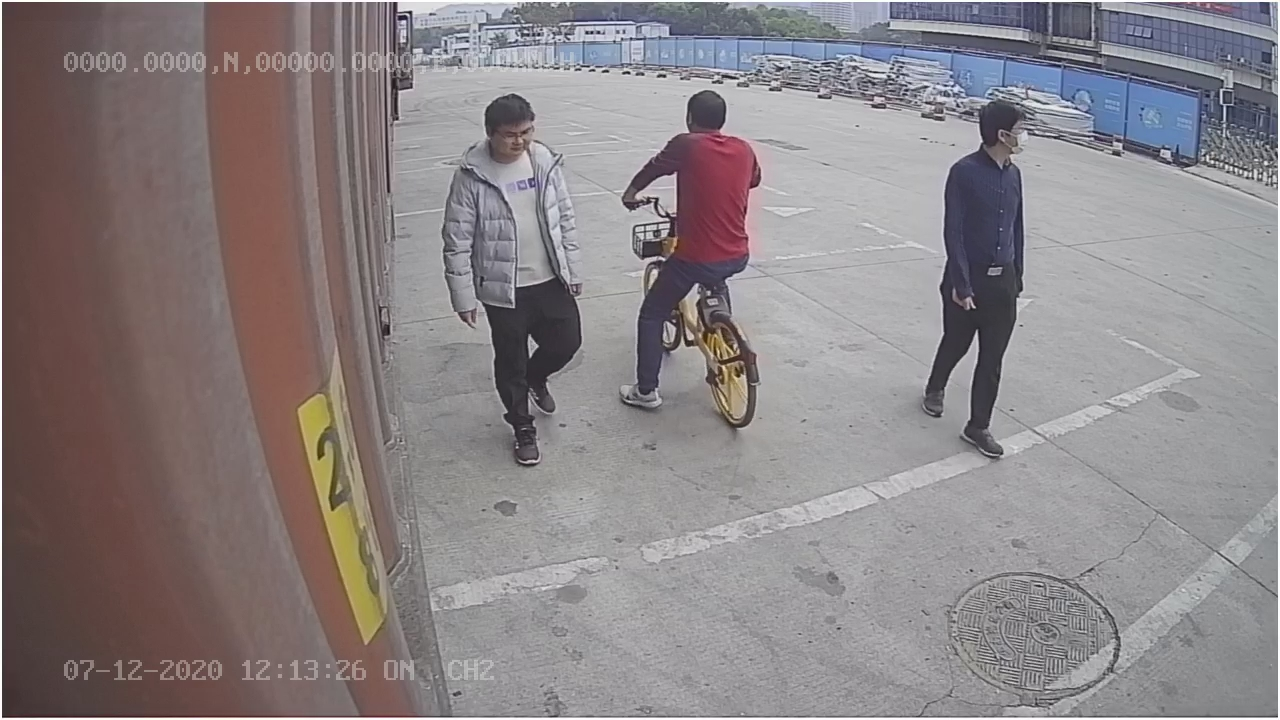person: (442, 91, 592, 467), (919, 88, 1033, 459)
